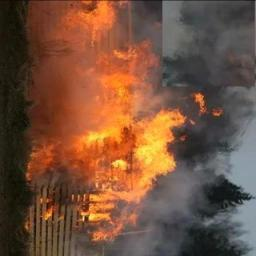Low smoke: (75, 0, 248, 256)
Medium fire: (20, 11, 171, 234)
